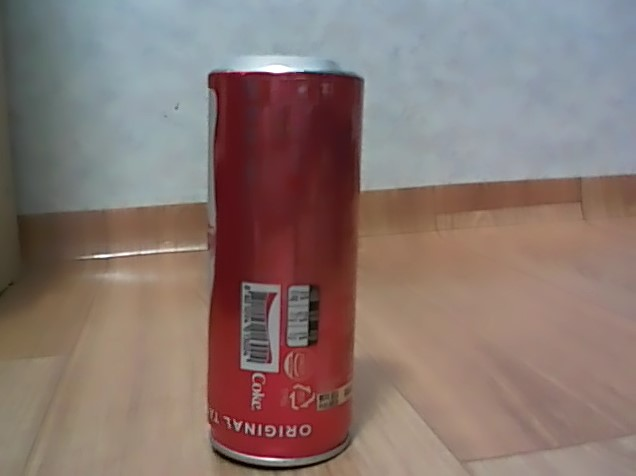Can: (194, 48, 370, 472)
